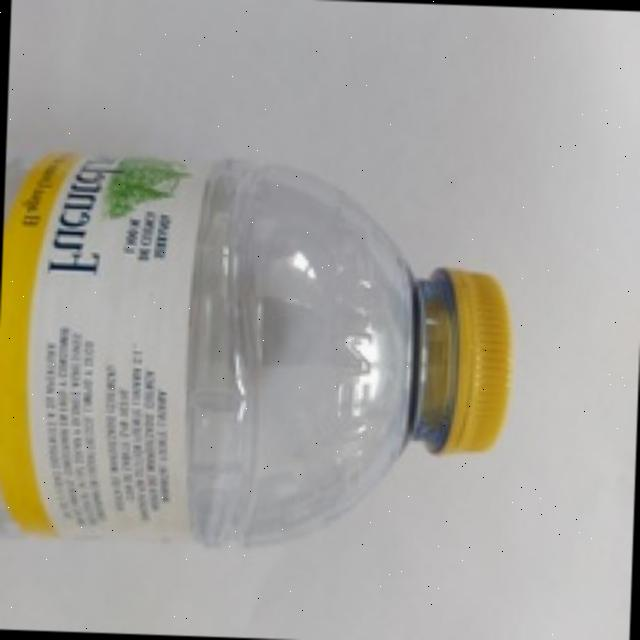bottle: (0, 104, 537, 640)
cap: (406, 260, 514, 463)
label: (0, 122, 234, 557)
